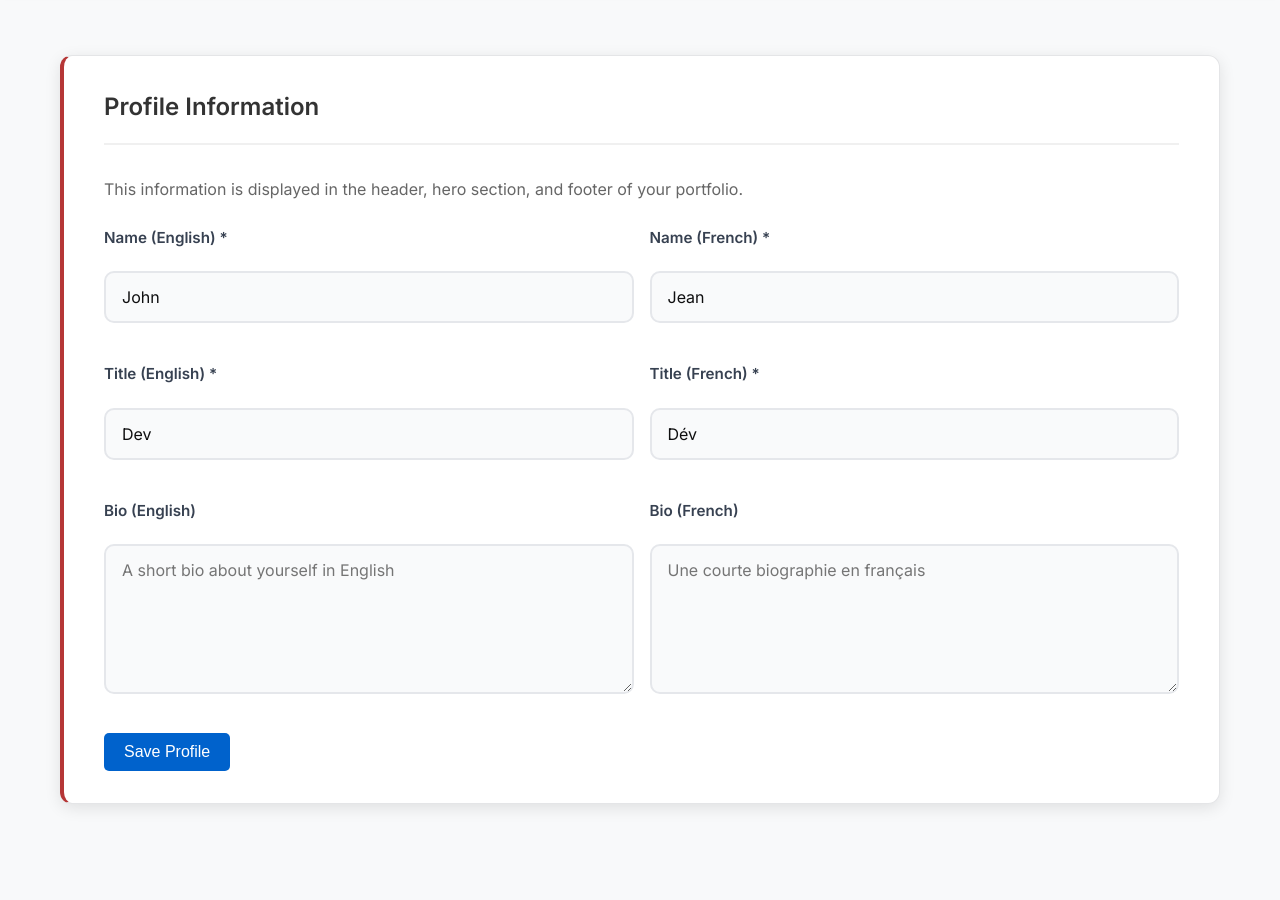
Scenario: AdminProfile › handles form submission success
(page scrolled)
Click the button "Save Profile".
click(167, 752)  # box x1=104 y1=733 x2=230 y2=771
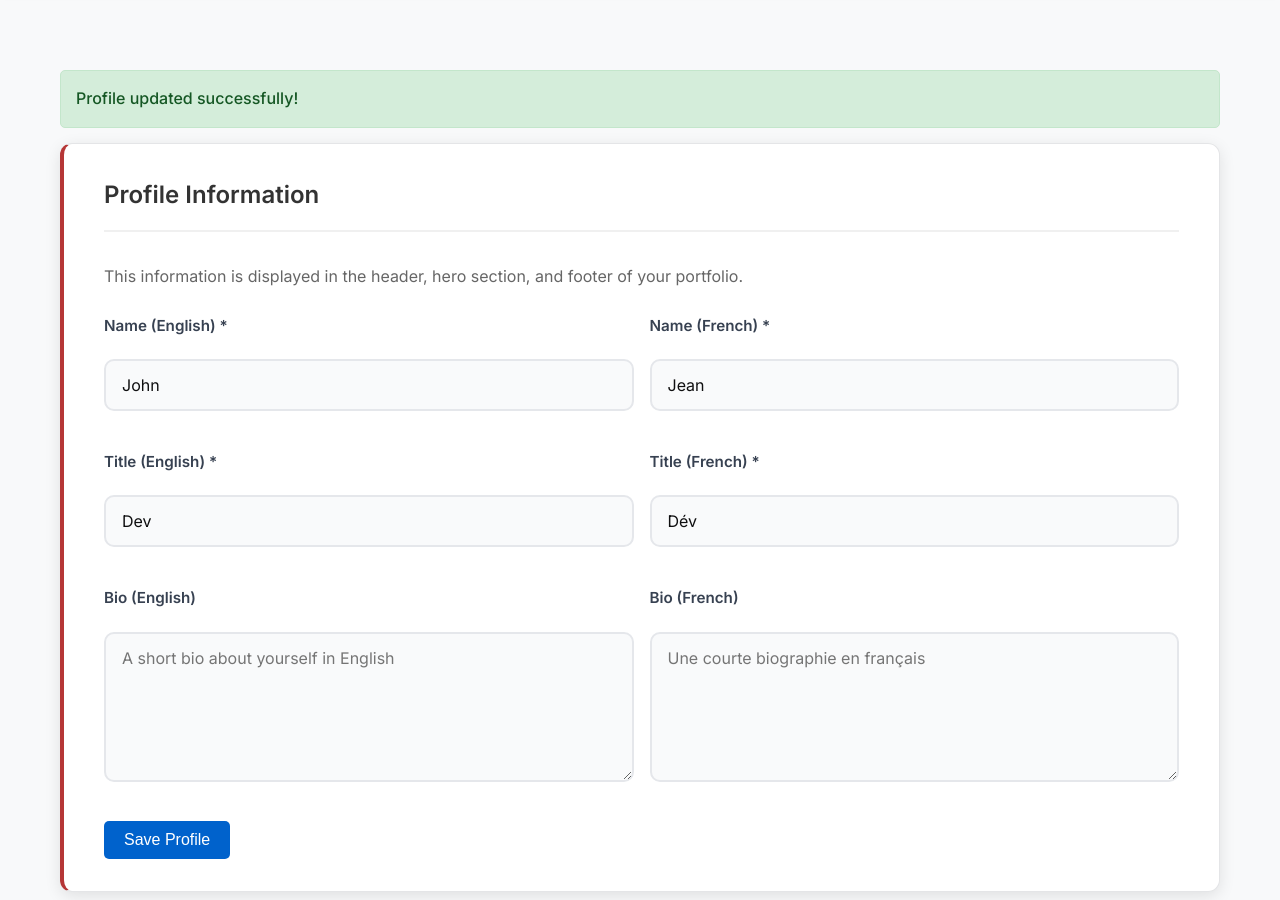
Expected: the text "Profile updated successfully!" is shown, x1=60 y1=70 x2=1220 y2=128
